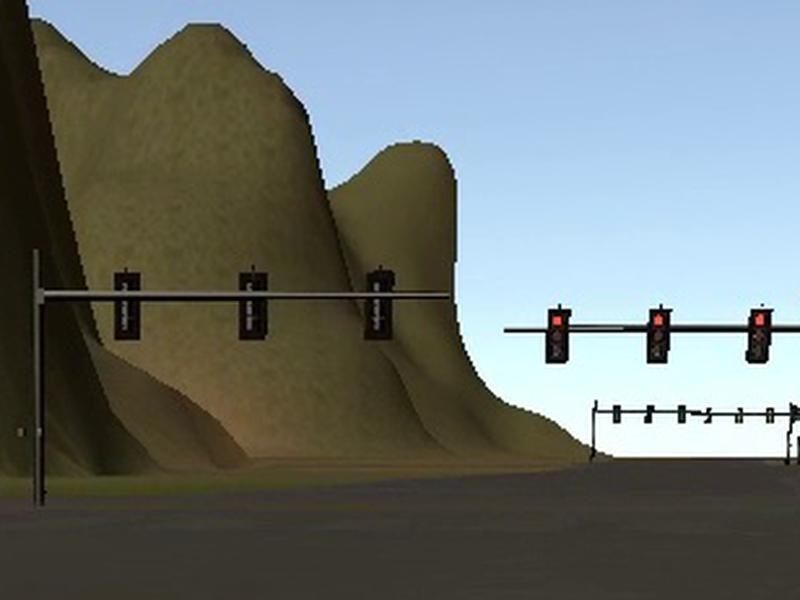Red: (747, 308, 774, 364), (648, 311, 670, 364), (548, 310, 568, 363)
